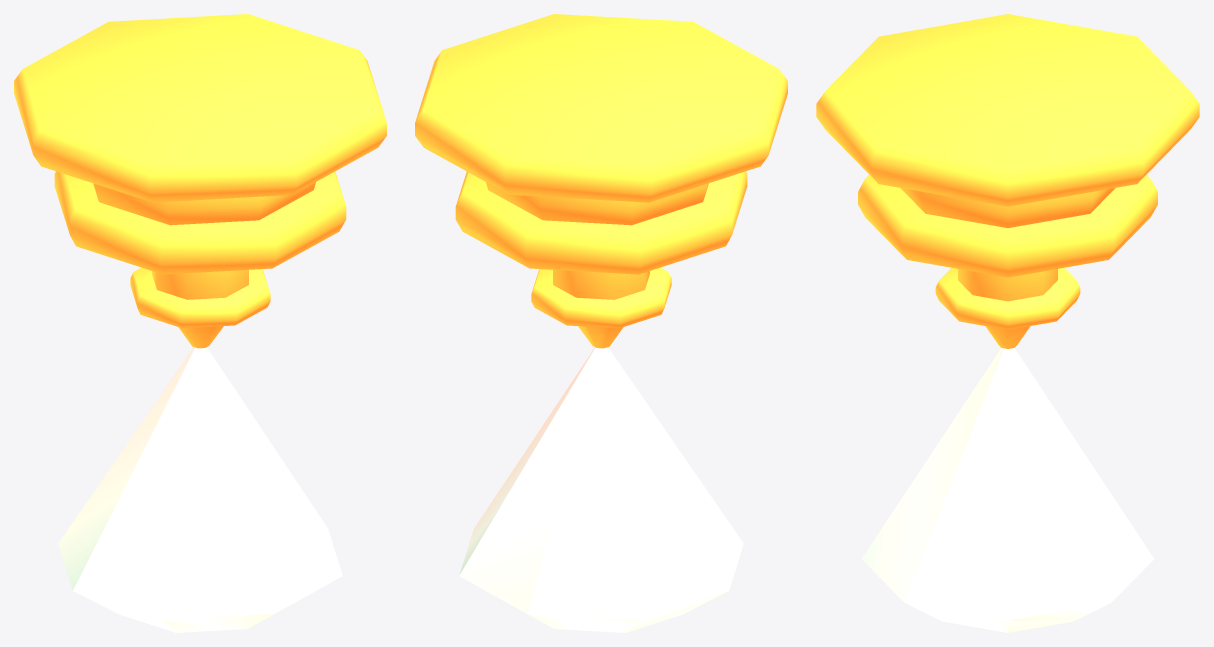
File: gold_pommel_059.glb
3 renders of one model, left to right at view 1: azimuth 30°, elevation 25°; view 2: azimuth 150°, elevation 25°; view 3: azimuth 270°, elevation 25°, orthographic.
Visible parts, largest first — view 1: gold_pommel_059; view 2: gold_pommel_059; view 3: gold_pommel_059.
Part boxes in pixels (left/top/right/bottom): gold_pommel_059: left=14, top=14, right=386, bottom=632; gold_pommel_059: left=415, top=14, right=787, bottom=632; gold_pommel_059: left=816, top=14, right=1199, bottom=632.
Size of the model in its own units: 1.76 by 2.54 by 1.76.
1 material, 1 textured.
